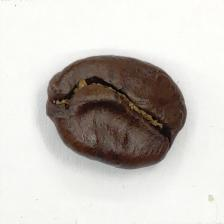NG: (64, 69, 152, 147)
